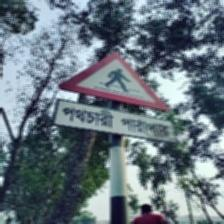Pedestrian-crossing: (54, 50, 175, 143)
